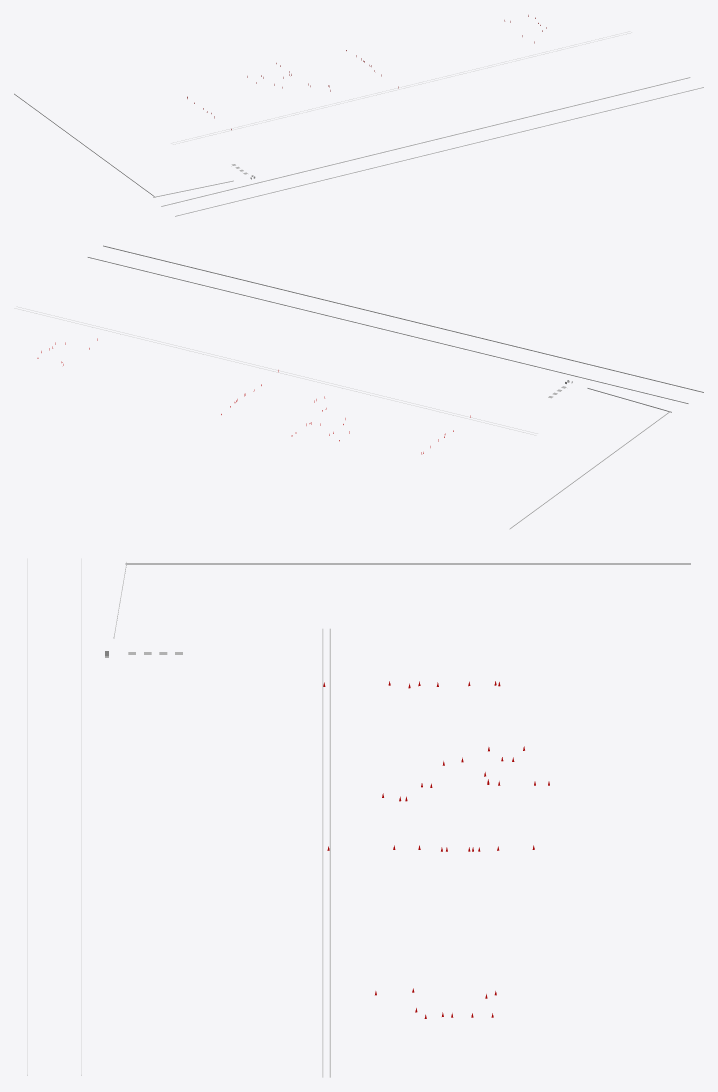
File: project.glb
The picture shows the model from 3 angles, top to bottom: view 1: azimuth 30°, elevation 25°; view 2: azimuth 150°, elevation 25°; view 3: azimuth 270°, elevation 25°; orthographic projection. The views are drawn at different scales.
Visible parts, largest first — view 1: 6_primitive, 5_primitive, 8_primitive, 7_primitive; view 2: 5_primitive, 6_primitive, 7_primitive, 8_primitive; view 3: 1_primitive, 7_primitive, 8_primitive.
Part boxes in pixels (x1,y1,x2,y2): 6_primitive: [161, 77, 690, 206]; 5_primitive: [175, 87, 703, 216]; 8_primitive: [173, 32, 631, 144]; 7_primitive: [171, 31, 630, 143]; 5_primitive: [103, 245, 703, 392]; 6_primitive: [87, 257, 688, 403]; 7_primitive: [14, 308, 536, 435]; 8_primitive: [16, 306, 537, 433]; 1_primitive: [126, 563, 690, 564]; 7_primitive: [329, 628, 330, 1077]; 8_primitive: [322, 628, 323, 1077].
Size of the model in its own units: 158 by 1.25 by 85.31.
